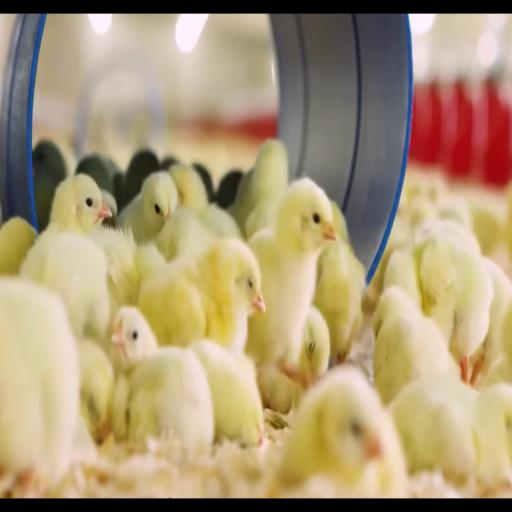chick: (246, 178, 337, 381), (278, 366, 406, 497), (0, 278, 79, 482), (138, 238, 265, 352), (390, 376, 511, 486), (415, 234, 493, 383), (113, 348, 214, 456), (374, 288, 459, 403), (20, 233, 109, 340), (390, 376, 478, 483), (191, 340, 263, 446), (90, 228, 166, 319), (314, 240, 365, 363), (169, 165, 242, 238), (230, 139, 288, 228), (471, 258, 511, 385), (90, 228, 139, 315), (119, 172, 178, 243), (367, 217, 410, 305), (78, 339, 114, 443), (49, 174, 111, 234), (478, 384, 511, 485), (155, 208, 217, 261), (33, 141, 67, 231), (111, 307, 157, 372), (481, 301, 511, 387), (468, 191, 506, 255), (299, 307, 330, 385), (299, 306, 330, 383), (372, 287, 417, 338), (414, 220, 481, 254), (383, 249, 421, 308), (0, 218, 36, 275), (123, 150, 159, 204), (169, 164, 208, 212), (402, 167, 447, 204), (199, 204, 243, 239), (33, 140, 67, 184), (75, 155, 113, 193), (244, 199, 279, 240), (34, 174, 58, 232), (437, 194, 472, 231), (72, 415, 98, 463), (135, 244, 166, 282), (216, 170, 243, 209), (406, 196, 436, 229), (192, 163, 214, 202), (331, 200, 349, 243), (102, 191, 118, 227), (113, 173, 125, 211), (161, 156, 180, 170)
